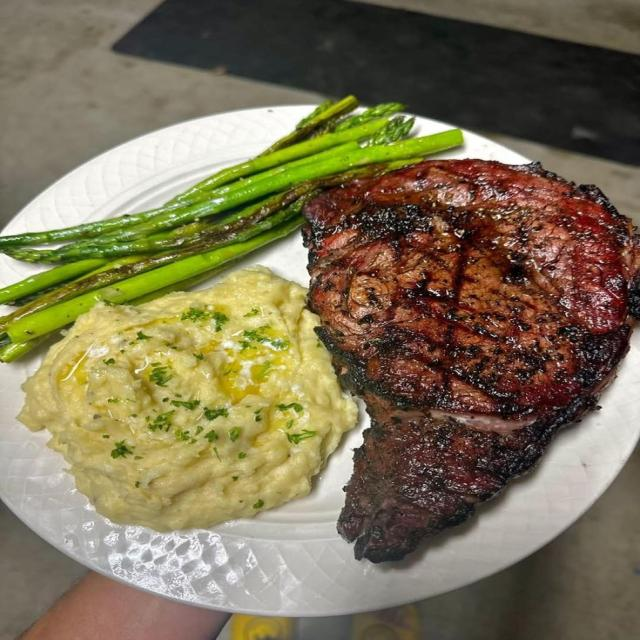asparagus: (0, 159, 419, 330), (0, 119, 385, 250), (7, 215, 303, 343), (145, 130, 462, 233), (176, 118, 387, 202), (0, 201, 223, 250), (0, 256, 141, 331), (63, 222, 217, 261), (261, 96, 358, 155), (0, 259, 107, 304), (335, 103, 404, 131), (290, 142, 359, 166), (363, 116, 414, 147), (0, 337, 45, 362)
beef steak: (302, 159, 639, 562)
mashed potatoes: (18, 266, 357, 531)
